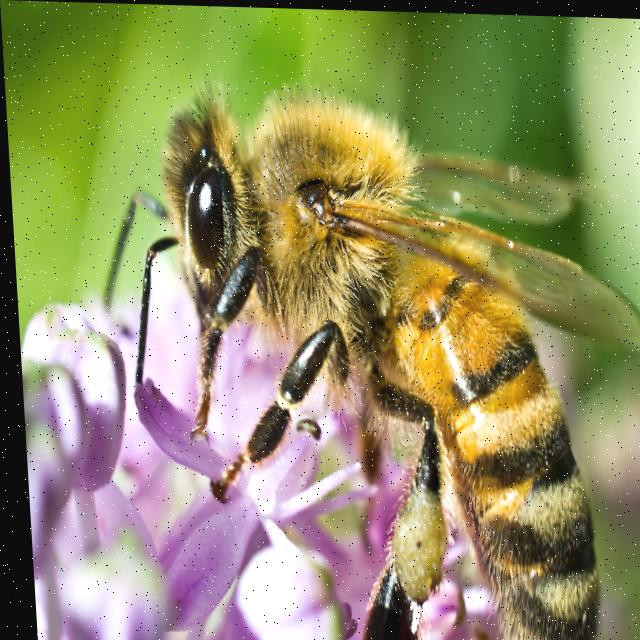Apis-mellifera-scutellata: (83, 40, 640, 640)
